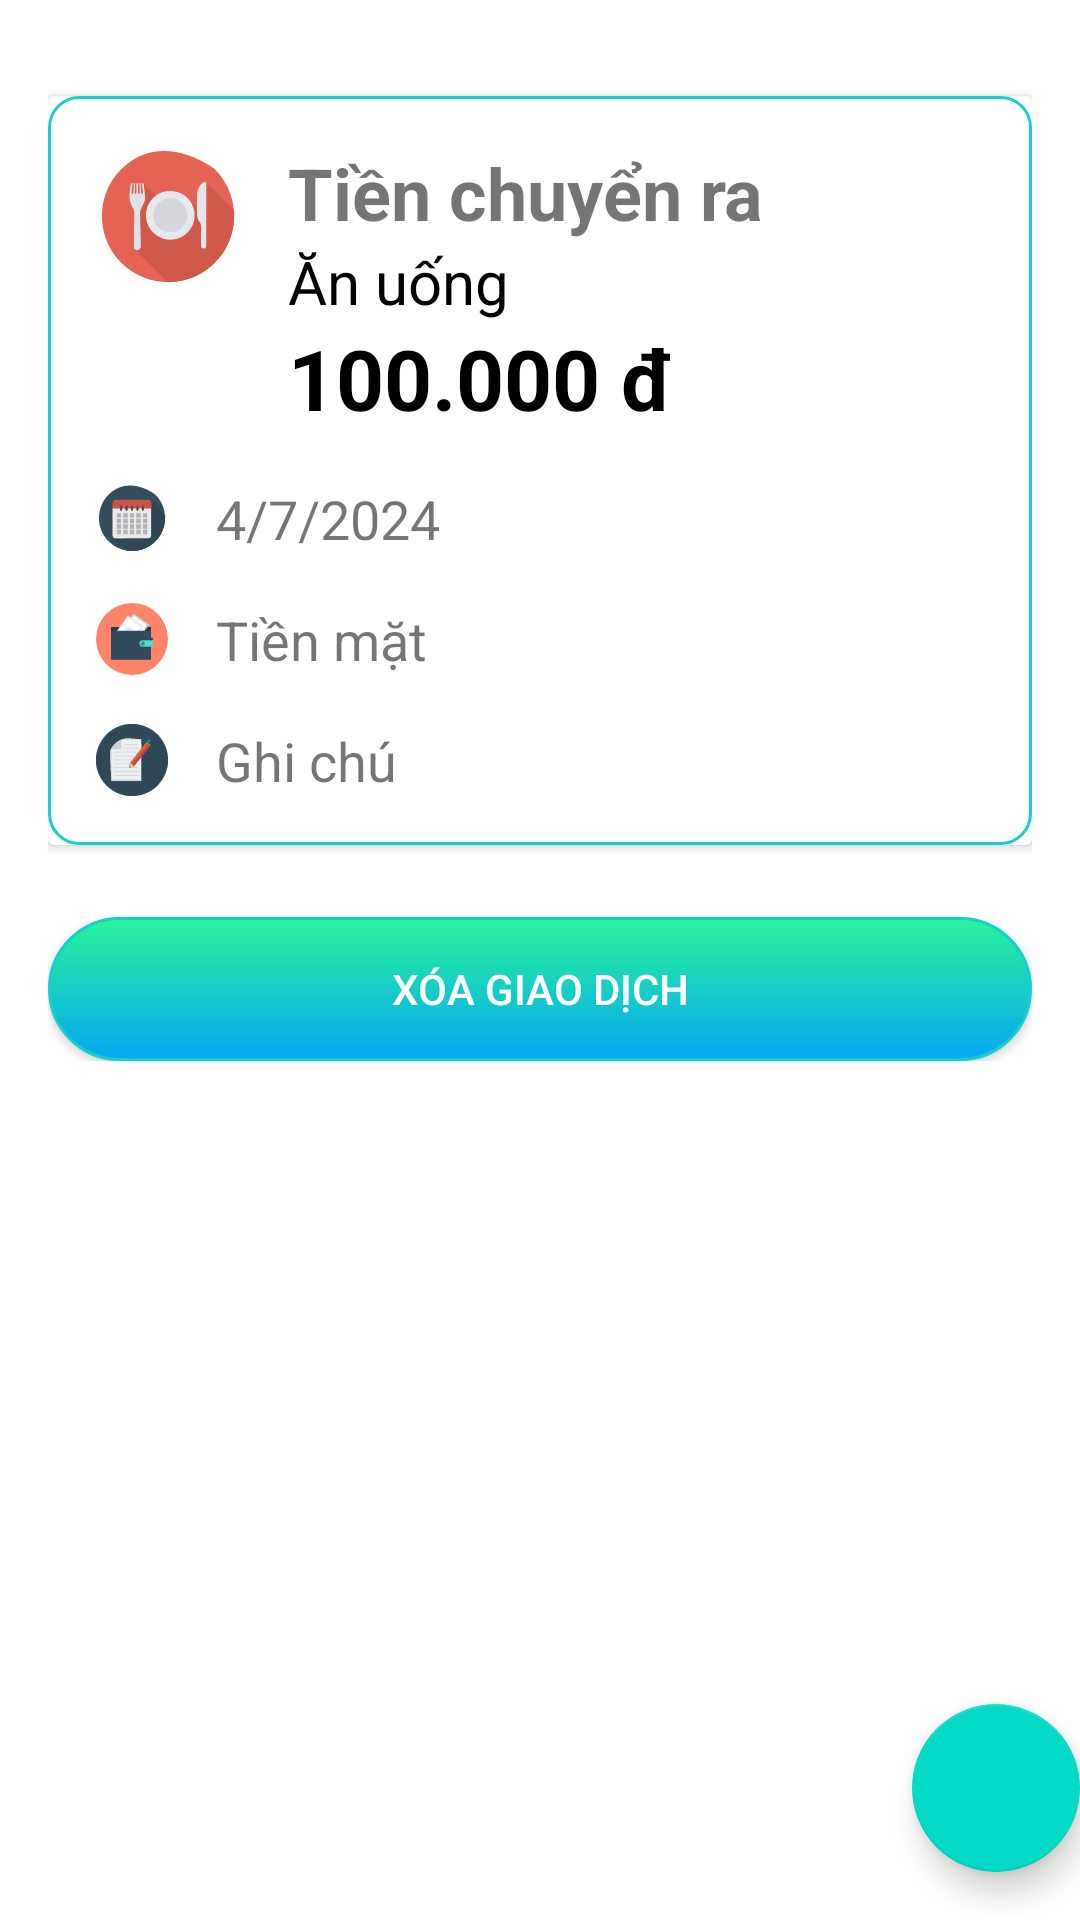

Where icons sit on this 1080*1920 app screen, as (x1, y1, x2, y2):
calendar: (99, 485, 166, 551)
Food icon: (102, 151, 235, 283)
note: (96, 724, 168, 796)
wallet: (96, 603, 168, 675)
